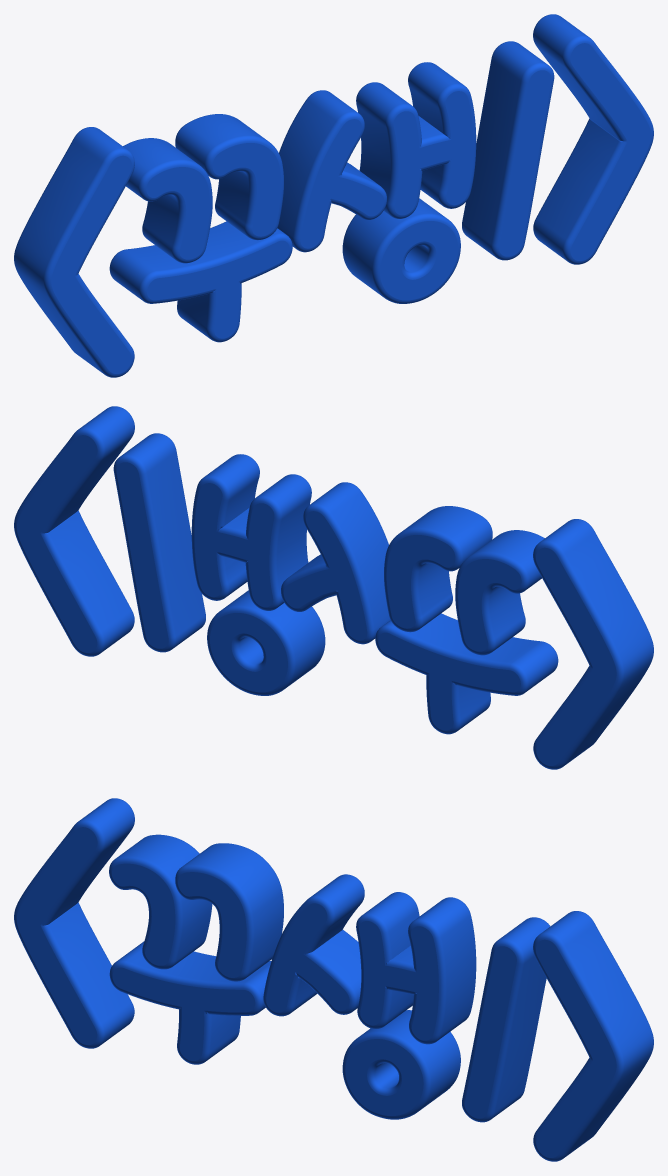
The model's file is ti2tle.gltf.
The picture shows the model from 3 angles, top to bottom: view 1: azimuth 30°, elevation 25°; view 2: azimuth 150°, elevation 25°; view 3: azimuth 330°, elevation 25°; orthographic projection.
Parts seen in each view (by area): view 1: 텍스트; view 2: 텍스트; view 3: 텍스트.
Part boxes in pixels (box(x1,y1,x2,y2)): 텍스트: box(14, 14, 653, 377); 텍스트: box(14, 406, 653, 769); 텍스트: box(14, 798, 653, 1161).
Size of what is drawn, in the model's own units: 3.84 by 1.37 by 0.3768.
